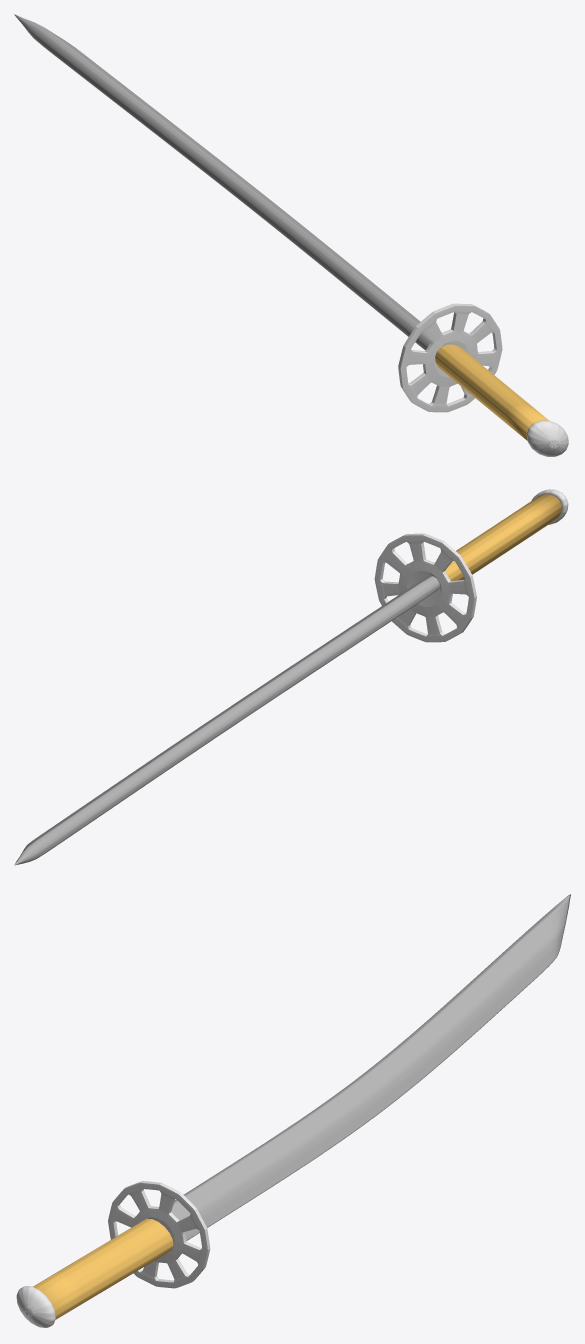
File: katana.fbx
The picture shows the model from 3 angles, top to bottom: view 1: azimuth 30°, elevation 25°; view 2: azimuth 150°, elevation 25°; view 3: azimuth 330°, elevation 25°; orthographic projection. The views are drawn at different scales.
Parts seen in each view (by area): view 1: lamina.001, tsuba.001, punho.001, coronha.001; view 2: lamina.001, tsuba.001, punho.001; view 3: lamina.001, punho.001, tsuba.001, coronha.001.
Part boxes in pixels (x1,y1,x2,y2): lamina.001: (14, 14, 431, 350); tsuba.001: (398, 303, 502, 412); punho.001: (435, 344, 548, 440); coronha.001: (526, 420, 568, 456); lamina.001: (14, 576, 439, 865); tsuba.001: (374, 533, 476, 642); punho.001: (445, 494, 561, 580); lamina.001: (171, 894, 570, 1240); punho.001: (33, 1218, 173, 1319); tsuba.001: (108, 1181, 210, 1288); coronha.001: (16, 1286, 55, 1327).
Bounding box in the file's own units: 189 × 189 × 1751.
